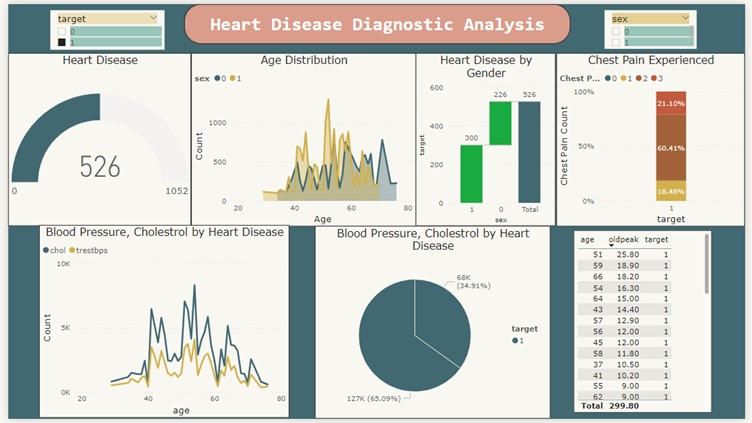

The page's visual inventory and layout, read from the dashboard file:
{"tool":"powerbi","page":{"name":"Dashboard","canvas":[1280,720],"ordinal":0},"visuals":[{"type":"waterfallChart","title":"Heart Disease by Gender","fields":{"Category":["Heart Disease data 2.sex"],"Y":["Sum(Heart Disease data 2.target)"]},"box":[708.1,84.8,243.6,299.7],"z":0},{"type":"gauge","title":"Heart Disease","fields":{"Y":["Sum(Heart Disease data 2.target)"]},"box":[0,84.8,317.6,299.7],"z":1000},{"type":"areaChart","title":"Age Distribution","fields":{"Category":["Heart Disease data 2.age"],"Series":["Heart Disease data 2.sex"],"Y":["Sum(Heart Disease data 2.age)"]},"box":[317.6,84.8,390.4,300.9],"z":2000},{"type":"hundredPercentStackedColumnChart","title":"Chest Pain Experienced","fields":{"Category":["Heart Disease data 2.target"],"Y":["Sum(Heart Disease data 2.cp)"],"Series":["Heart Disease data 2.cp"]},"box":[951.6,84.8,327.2,300.9],"z":3000},{"type":"lineChart","title":"Blood Pressure, Cholestrol by Heart Disease","fields":{"Y":["Sum(Heart Disease data 2.chol)","Sum(Heart Disease data 2.trestbps)"],"Category":["Heart Disease data 2.age"]},"box":[54.3,384.3,434.3,334.3],"z":4000},{"type":"pieChart","title":"Blood Pressure, Cholestrol by Heart Disease","fields":{"Category":["Heart Disease data 2.target"],"Y":["Sum(Heart Disease data 2.trestbps)","Sum(Heart Disease data 2.chol)"]},"box":[532.9,385.7,408.6,334.3],"z":5000},{"type":"tableEx","title":"ST Depression by Age and Heart Disease","fields":{"Values":["Heart Disease data 2.age","Sum(Heart Disease data 2.oldpeak)","Heart Disease data 2.target"]},"box":[981.4,392.9,240,317.1],"z":6000},{"type":"slicer","fields":{"Values":["Heart Disease data 2.sex"]},"box":[1035.7,10,160,67.1],"z":7000},{"type":"slicer","fields":{"Values":["Heart Disease data 2.target"]},"box":[72.9,10,198.6,68.6],"z":8000},{"type":"textbox","box":[305.7,0,670,68.6],"z":9000}]}

Visuals, with their boxes in screenshot pixels (x1, y1, x2, y2), scaled from the page's 1280x720 canvas onto the 752x423 screenshot:
"Heart Disease by Gender" waterfallChart: left=416, top=50, right=559, bottom=226
"Heart Disease" gauge: left=0, top=50, right=187, bottom=226
"Age Distribution" areaChart: left=187, top=50, right=416, bottom=227
"Chest Pain Experienced" hundredPercentStackedColumnChart: left=559, top=50, right=751, bottom=227
"Blood Pressure, Cholestrol by Heart Disease" lineChart: left=32, top=226, right=287, bottom=422
"Blood Pressure, Cholestrol by Heart Disease" pieChart: left=313, top=227, right=553, bottom=422
"ST Depression by Age and Heart Disease" tableEx: left=577, top=231, right=718, bottom=417
slicer - Heart Disease data 2.sex: left=608, top=6, right=702, bottom=45
slicer - Heart Disease data 2.target: left=43, top=6, right=160, bottom=46
textbox: left=180, top=0, right=573, bottom=40
